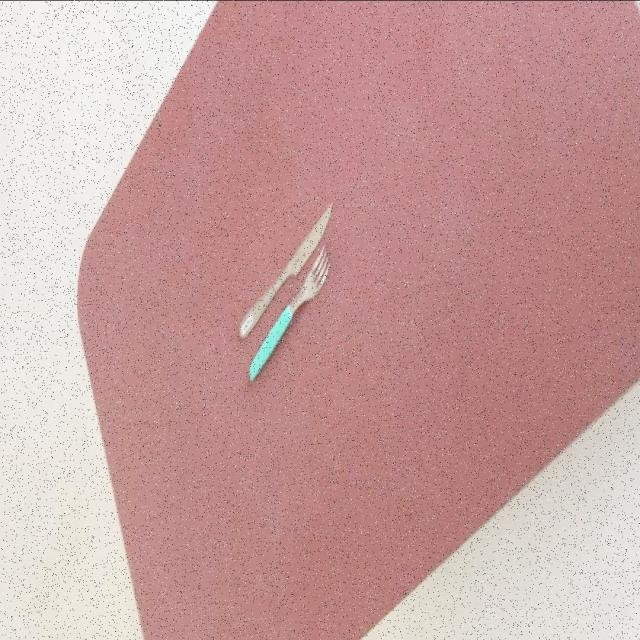Fork: (238, 200, 333, 338), (248, 243, 330, 380)
Knife: (237, 200, 333, 338), (247, 243, 331, 380)
